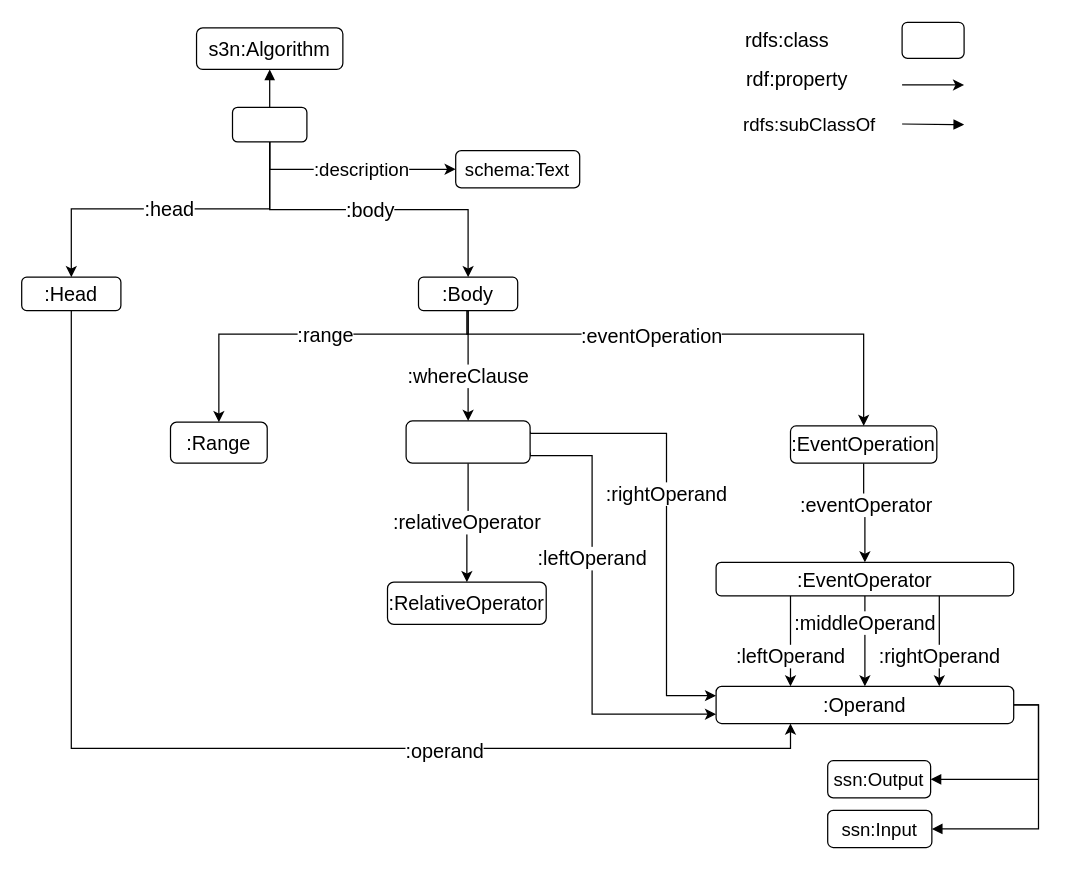
Image size: 1070x869. Some labels were removed from this diagram. Here are the shapes that lost their labels. From the top down, the box of each, then its label:
(231, 106, 307, 142): :Rule
(405, 420, 530, 463): :Condition
